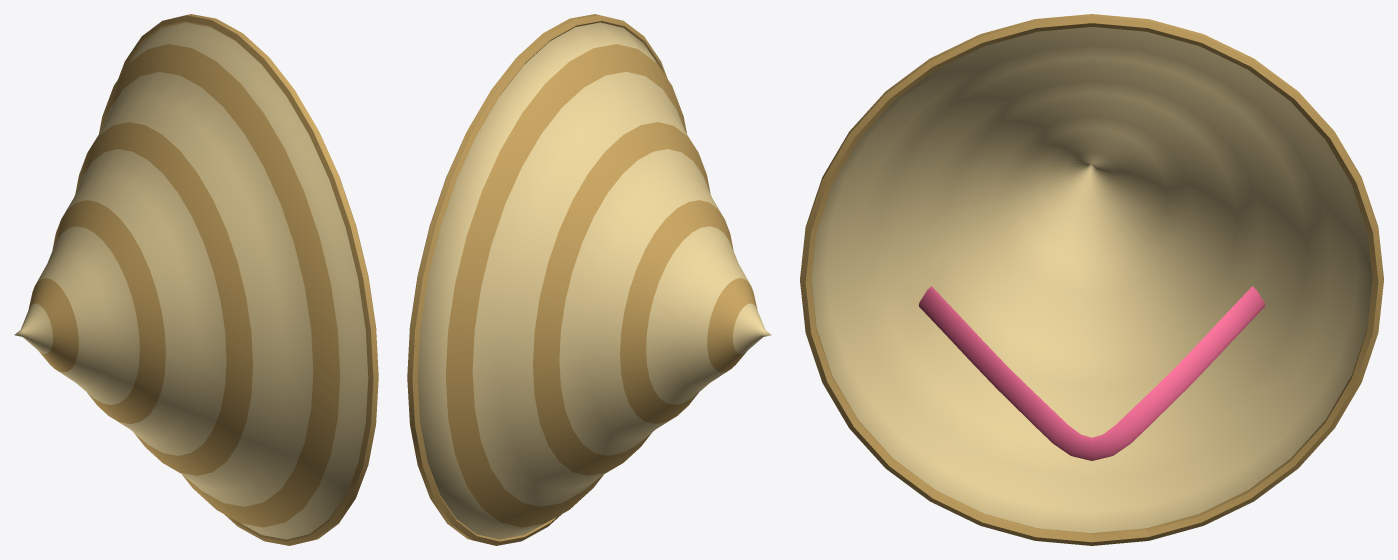
The model's file is non-la.glb.
3 views of the same model, side by side, from view 1: azimuth 30°, elevation 25°; view 2: azimuth 150°, elevation 25°; view 3: azimuth 270°, elevation 25° (orthographic). The views are drawn at different scales.
Visible parts, largest first — view 1: non-la; view 2: non-la; view 3: non-la.
Boxes of the visible parts, bbox=[...] form: non-la: bbox=[14, 14, 378, 545]; non-la: bbox=[407, 14, 771, 545]; non-la: bbox=[800, 14, 1383, 545].
Size of the model in its own units: 0.2418 by 0.4078 by 0.4078.
